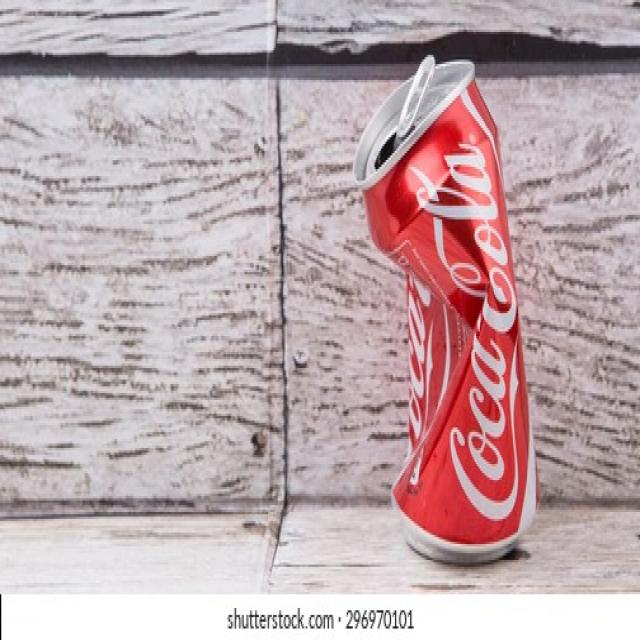non-organic waste: (354, 54, 543, 570)
